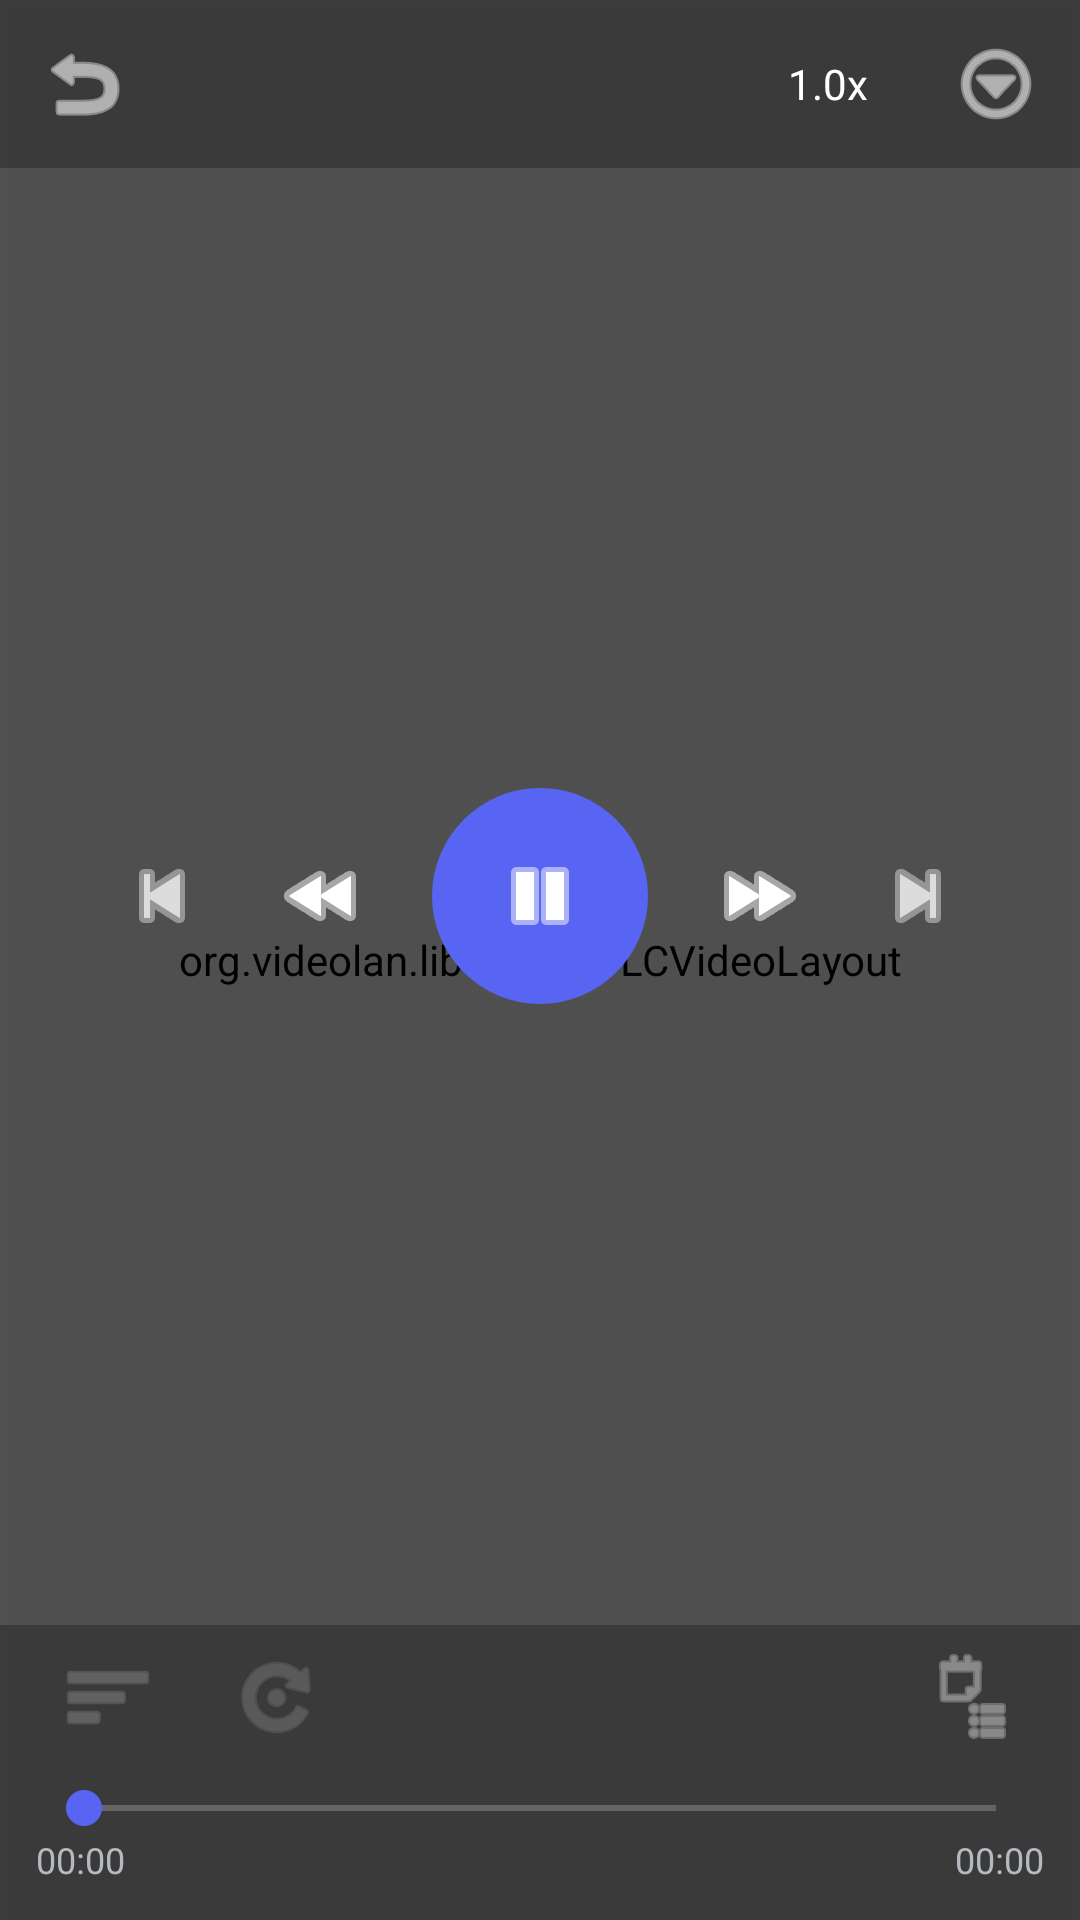

Where icons sit on this 1080 × 1920 app screen, as (left=x1, top=y1, right=x2, bottom=y2):
Danh sách phát: (left=939, top=1654, right=1006, bottom=1739)
Lặp lại: (left=243, top=1664, right=309, bottom=1731)
Phát/Dừng: (left=432, top=788, right=648, bottom=1004)
Quay lại: (left=51, top=53, right=120, bottom=116)
Thêm tùy chọn: (left=960, top=49, right=1032, bottom=120)
Video tiếp theo: (left=895, top=869, right=941, bottom=923)
Video trước: (left=139, top=869, right=185, bottom=923)
